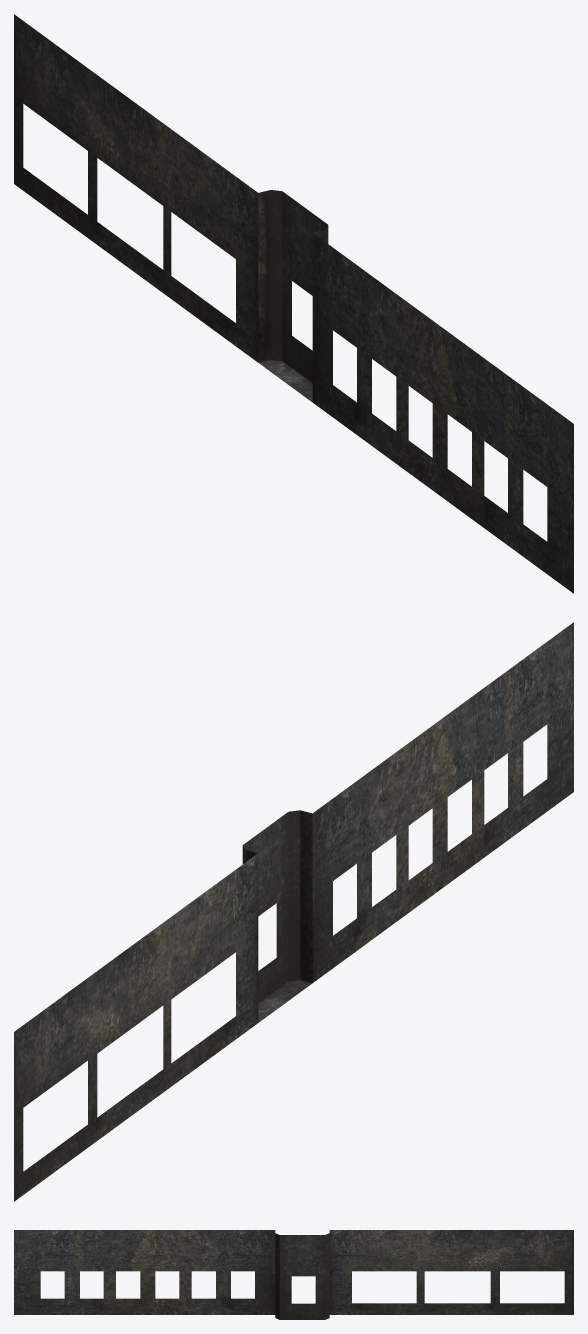
Rendered from Wall_03.FBX.
3 renders of one model, top to bottom at view 1: azimuth 30°, elevation 25°; view 2: azimuth 150°, elevation 25°; view 3: azimuth 270°, elevation 25°, orthographic. The views are drawn at different scales.
Parts seen in each view (by area): view 1: Wall_03; view 2: Wall_03; view 3: Wall_03.
Part boxes in pixels (x1=…): Wall_03: x1=14, y1=14, x2=573, y2=593; Wall_03: x1=14, y1=622, x2=573, y2=1201; Wall_03: x1=14, y1=1230, x2=573, y2=1319.
Bounding box in the file's own units: 62.38 × 511 × 3053.
